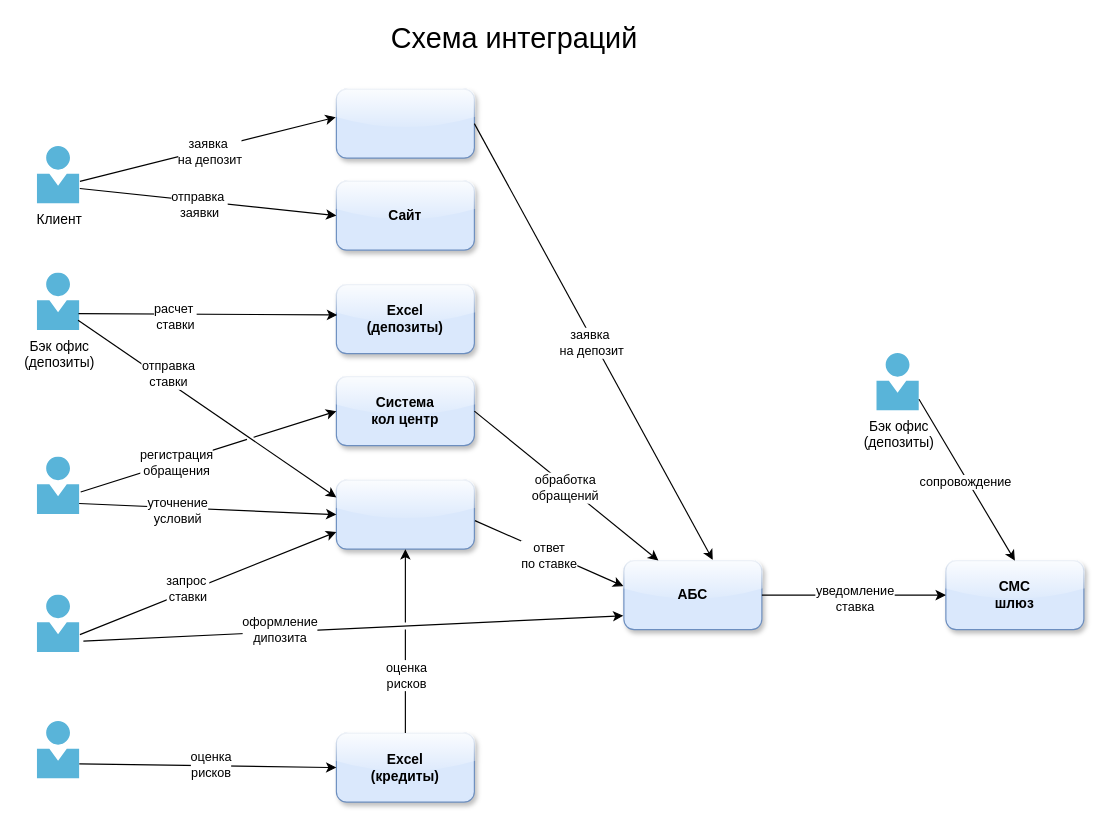
Image size: 1111x840. Some labels were removed from this diagram. The shapes that lost their labels are listed below. From the top down, each one's centre as x and y in pixels, then its label:
At [406,124]: "Интернет банк".
At [58,485]: "Оператор колл центр".
At [406,515]: "Почта".
At [58,623]: "Менеджер фронт офис".
At [58,750]: "Бэк офис (кредиты)".
